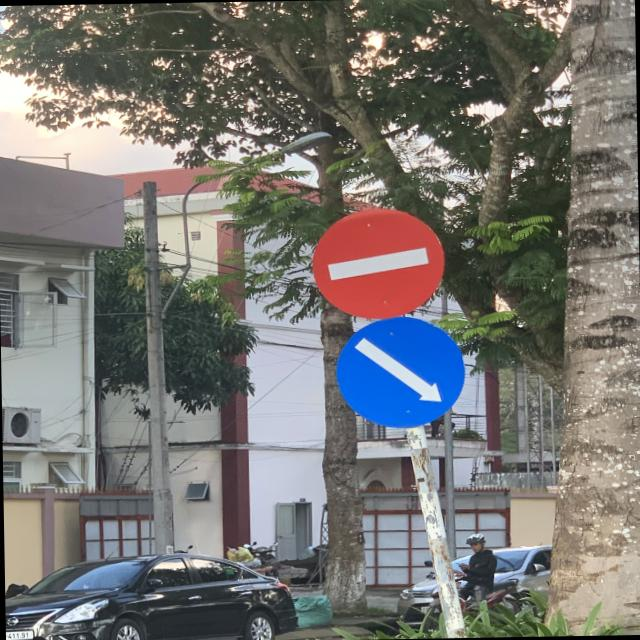Cam_Di_Nguoc_Chieu: (310, 208, 446, 318)
Chi_Huong_Di_Phai: (334, 314, 467, 430)
